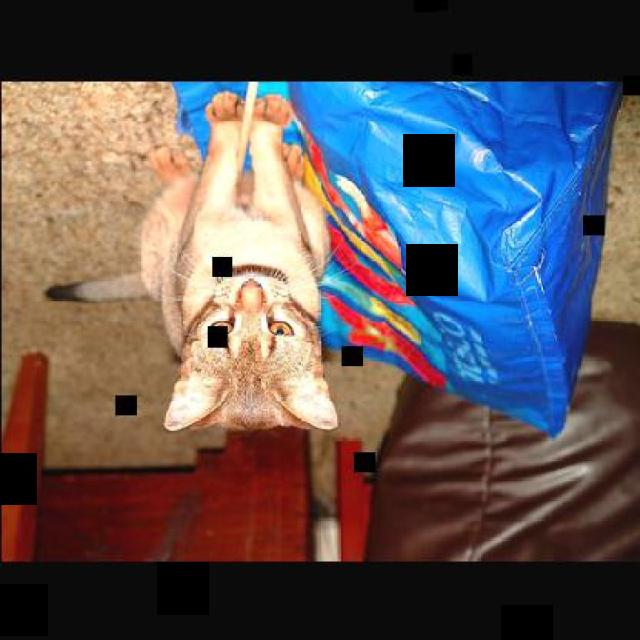unauthorized: (45, 90, 340, 436)
